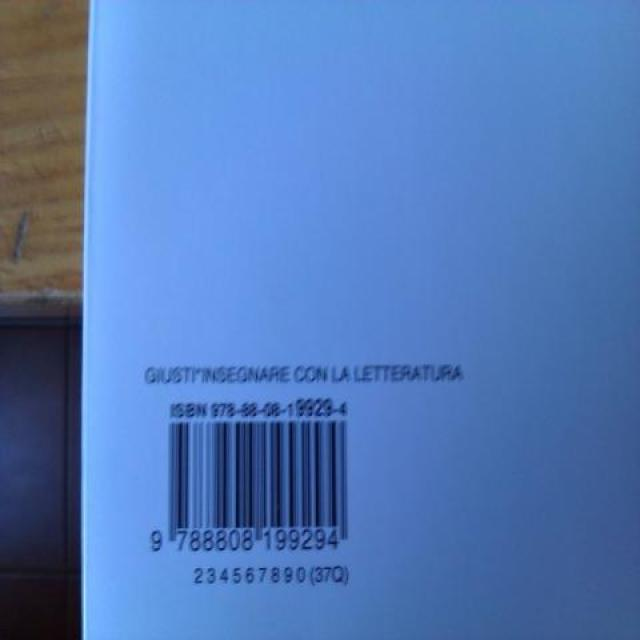Barcode: (146, 391, 366, 560)
